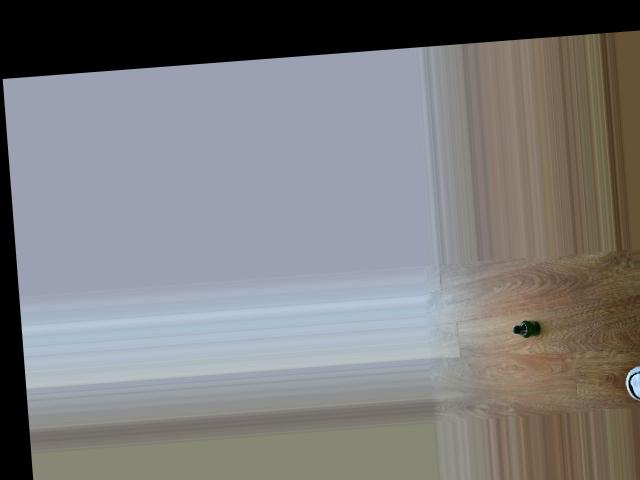beer: (513, 319, 541, 339)
